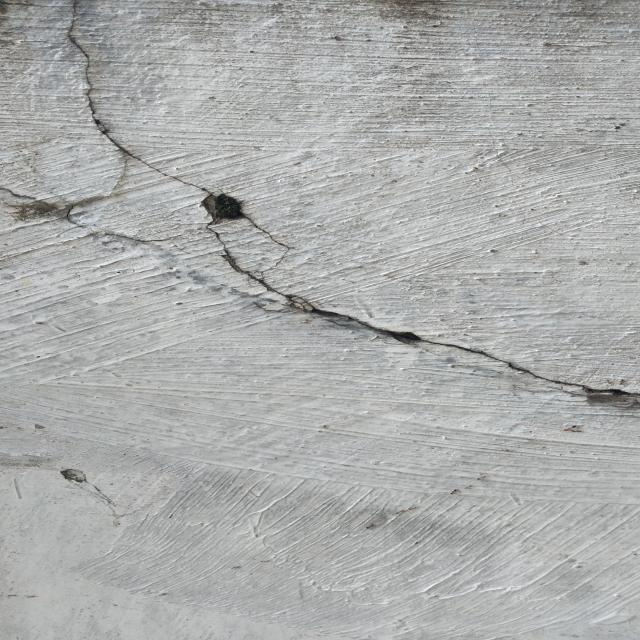Crack: (52, 5, 640, 403)
